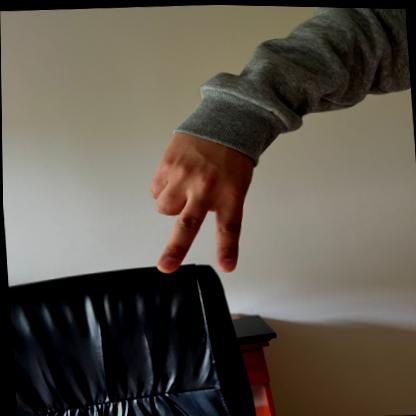N: (131, 101, 280, 282)
